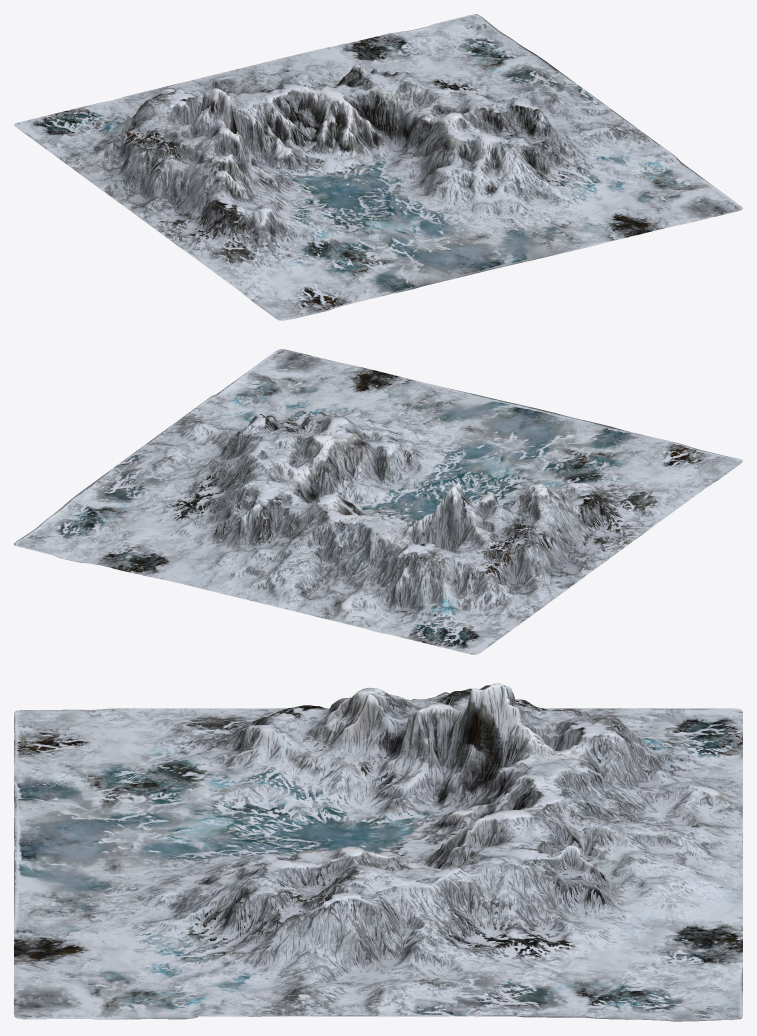
Rendered from icy.glb.
The picture shows the model from 3 angles, top to bottom: view 1: azimuth 30°, elevation 25°; view 2: azimuth 150°, elevation 25°; view 3: azimuth 270°, elevation 25°; orthographic projection. The views are drawn at different scales.
Parts seen in each view (by area): view 1: P_icy__c006, P_icy__c009, P_icy__c013, P_icy__c014, P_icy__c007, P_icy__c015, P_icy__c005, P_icy__c002, P_icy__c003, P_icy__c011, P_icy__c000, P_icy__c012 (+4 smaller); view 2: P_icy__c012, P_icy__c008, P_icy__c013, P_icy__c004, P_icy__c006, P_icy__c000, P_icy__c001, P_icy__c005, P_icy__c011, P_icy__c015, P_icy__c003, P_icy__c007 (+4 smaller); view 3: P_icy__c002, P_icy__c009, P_icy__c001, P_icy__c004, P_icy__c005, P_icy__c008, P_icy__c000, P_icy__c003, P_icy__c011, P_icy__c007, P_icy__c015, P_icy__c010 (+4 smaller).
Part boxes in pixels (x1,y1,x2,y2): P_icy__c006: [379, 102, 561, 214]; P_icy__c009: [219, 84, 377, 191]; P_icy__c013: [79, 88, 261, 222]; P_icy__c014: [146, 154, 328, 271]; P_icy__c007: [446, 180, 629, 264]; P_icy__c015: [213, 241, 396, 320]; P_icy__c005: [319, 69, 493, 170]; P_icy__c002: [495, 98, 677, 183]; P_icy__c003: [562, 159, 742, 236]; P_icy__c011: [329, 215, 511, 292]; P_icy__c000: [359, 14, 543, 85]; P_icy__c012: [14, 92, 194, 172]; P_icy__c012: [360, 543, 543, 654]; P_icy__c008: [244, 518, 418, 627]; P_icy__c013: [437, 484, 610, 606]; P_icy__c004: [129, 503, 310, 598]; P_icy__c006: [263, 412, 444, 505]; P_icy__c000: [14, 493, 194, 572]; P_icy__c001: [79, 433, 261, 518]; P_icy__c005: [195, 437, 377, 529]; P_icy__c011: [446, 403, 628, 478]; P_icy__c015: [562, 431, 742, 508]; P_icy__c003: [213, 349, 394, 416]; P_icy__c007: [340, 375, 512, 451]; P_icy__c002: [195, 891, 379, 1017]; P_icy__c009: [377, 685, 560, 864]; P_icy__c001: [378, 891, 561, 1017]; P_icy__c004: [560, 824, 742, 940]; P_icy__c005: [378, 812, 560, 936]; P_icy__c008: [560, 731, 742, 862]; P_icy__c000: [559, 933, 742, 1021]; P_icy__c003: [14, 935, 196, 1019]; P_icy__c011: [14, 783, 197, 864]; P_icy__c007: [14, 862, 196, 941]; P_icy__c015: [14, 708, 196, 786]; P_icy__c010: [195, 772, 379, 862].
Size of the model in its own units: 7803 by 1279 by 7803.
16 materials, 16 textured.
